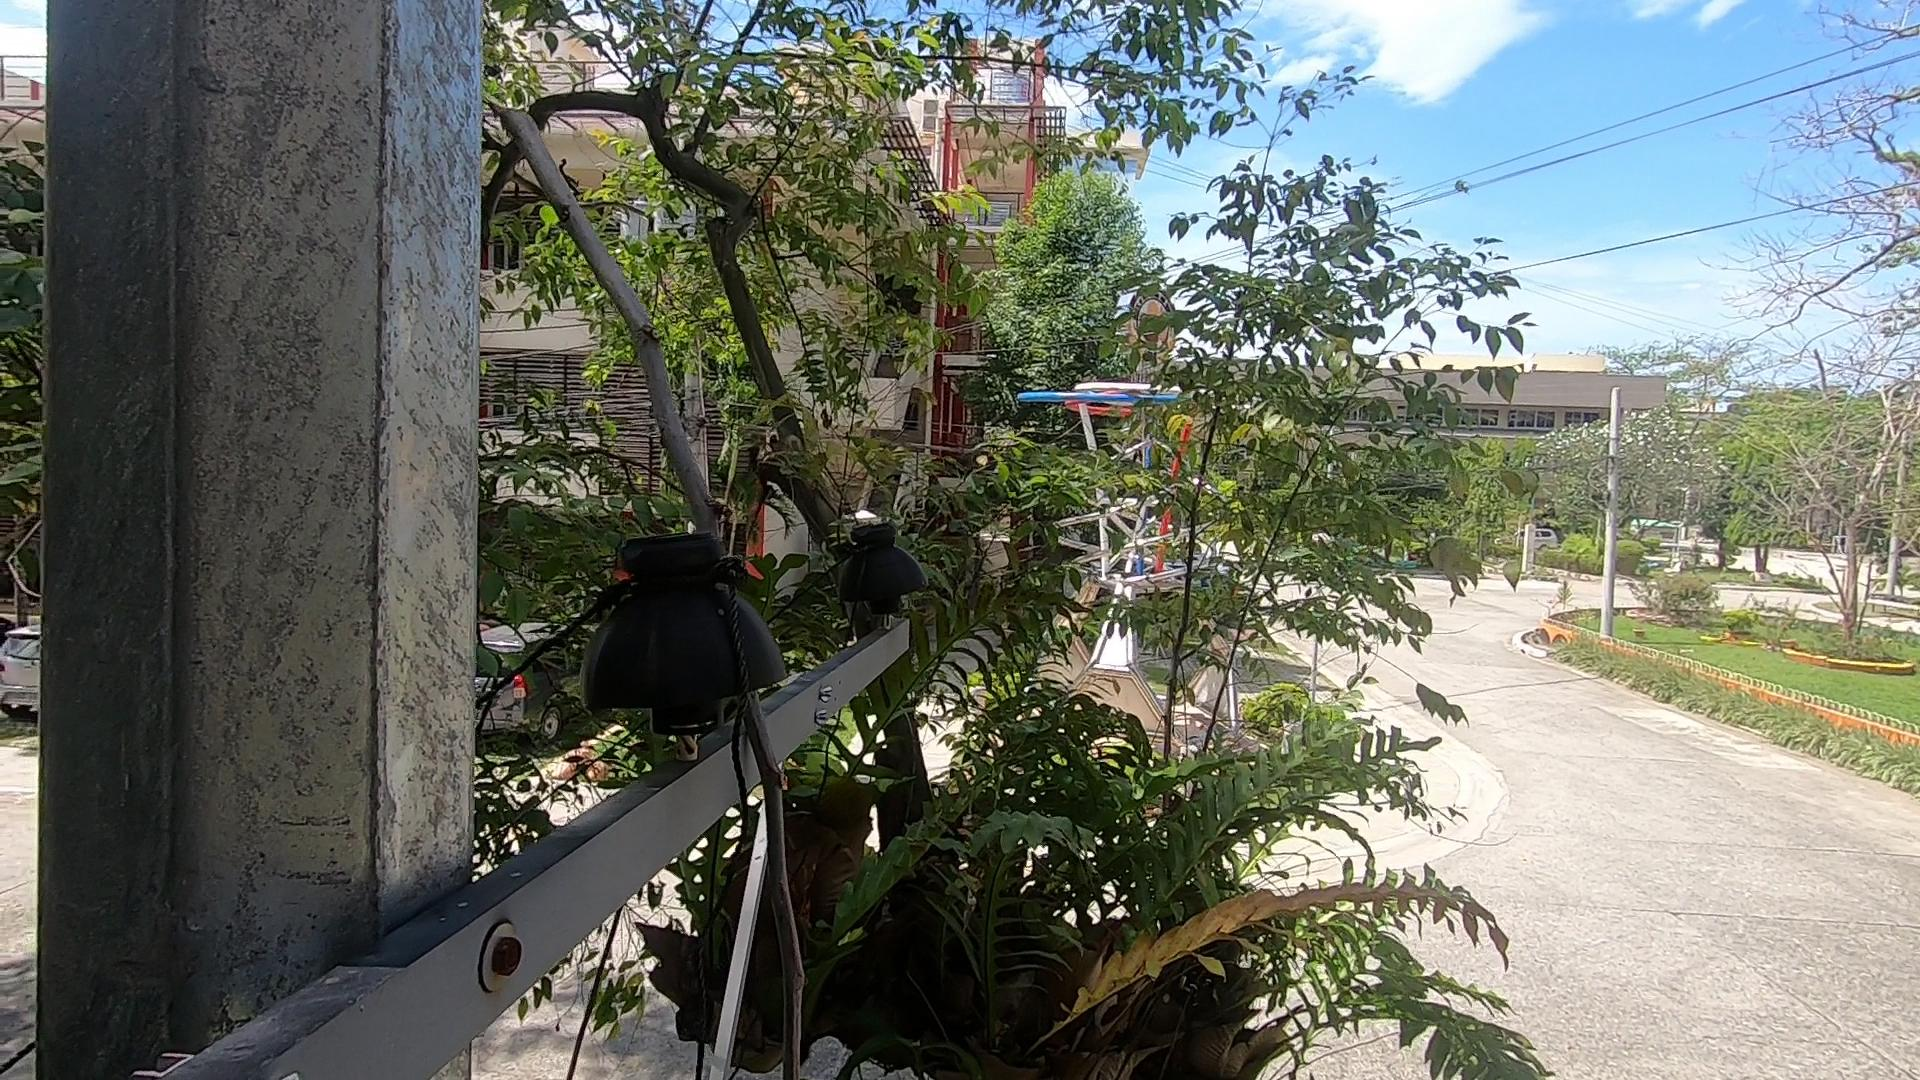tree branch: (458, 86, 916, 1075)
